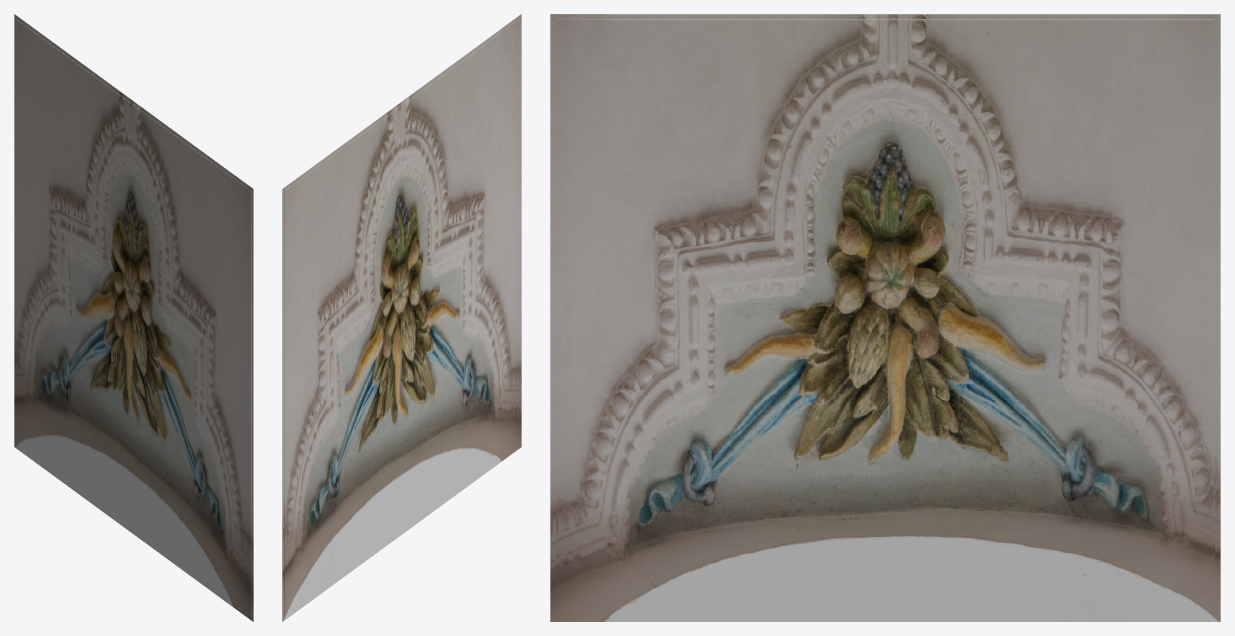
The model's file is 71e - Dekoracja plastyczna trzech par lunet sklepienia prezbiterium.glb.
The picture shows the model from 3 angles, left to right: view 1: azimuth 30°, elevation 25°; view 2: azimuth 150°, elevation 25°; view 3: azimuth 270°, elevation 25°; orthographic projection. The views are drawn at different scales.
Visible parts, largest first — view 1: Plane; view 2: Plane; view 3: Plane.
Boxes of the visible parts, x1,y1,x2,y2 form: Plane: (14,14,253,621); Plane: (282,14,521,621); Plane: (550,14,1220,621).
Size of the model in its own units: 0.0246 by 16 by 16.
1 material, 1 textured.
